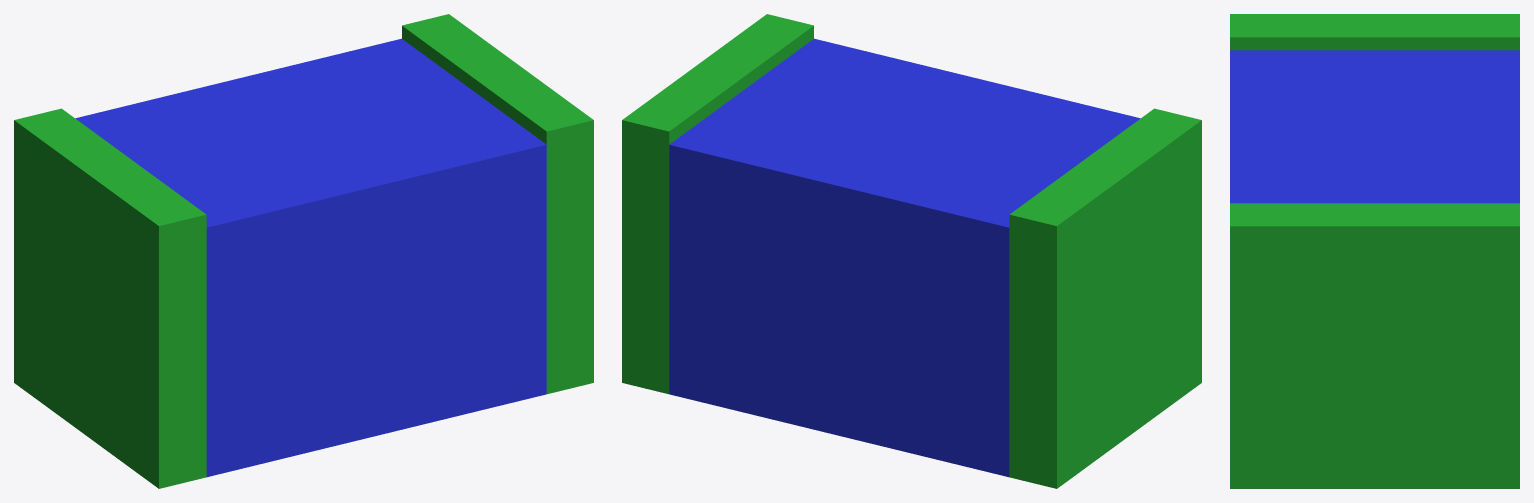
File: river_edge.glb
The picture shows the model from 3 angles, left to right: view 1: azimuth 30°, elevation 25°; view 2: azimuth 150°, elevation 25°; view 3: azimuth 270°, elevation 25°; orthographic projection.
Parts seen in each view (by area): view 1: river_edge; view 2: river_edge; view 3: river_edge.
Part boxes in pixels (x1=…): river_edge: x1=14, y1=14, x2=593, y2=488; river_edge: x1=622, y1=14, x2=1201, y2=488; river_edge: x1=1230, y1=14, x2=1519, y2=488.
Size of the model in its own units: 0.866 by 0.5 by 0.5.
